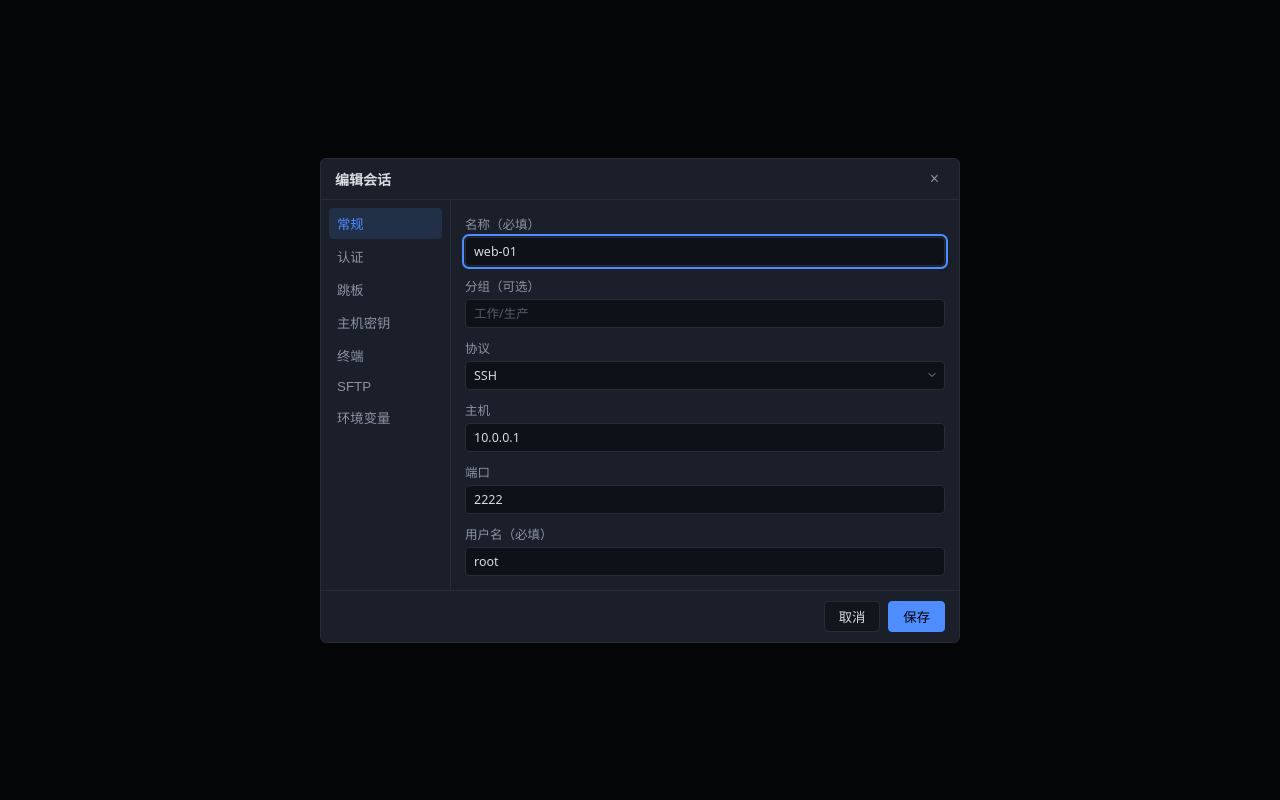
Test: ProfileDialog · 钉扎指纹 › 策略=指纹钉扎且无钉 → 保存前就给出「无法建立」警告
The image size is (1280, 800).
Step 1. Click the tab "主机密钥" → {"x": 386, "y": 322}, box [329, 306, 442, 338]
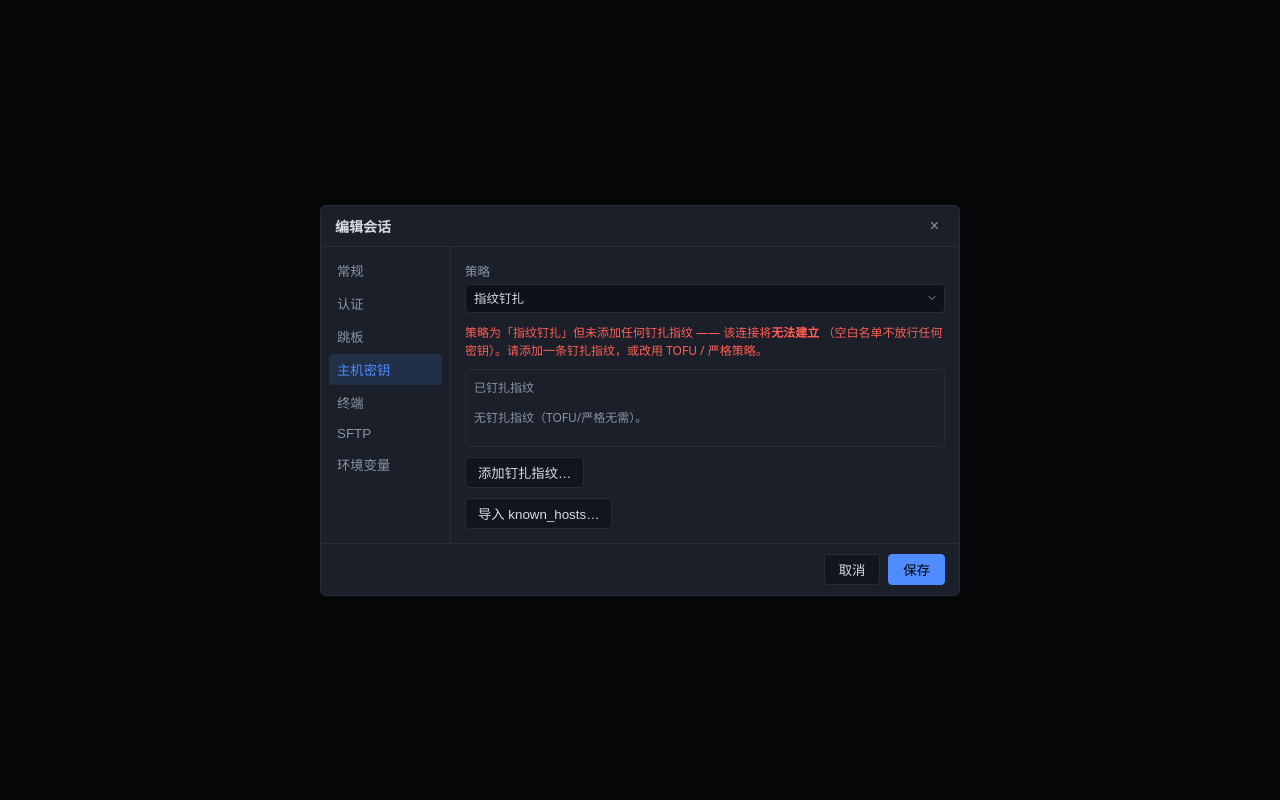
Expected: the message with test id "pf-hk-empty-pins" shows "无法建立", [771, 324, 819, 340]
